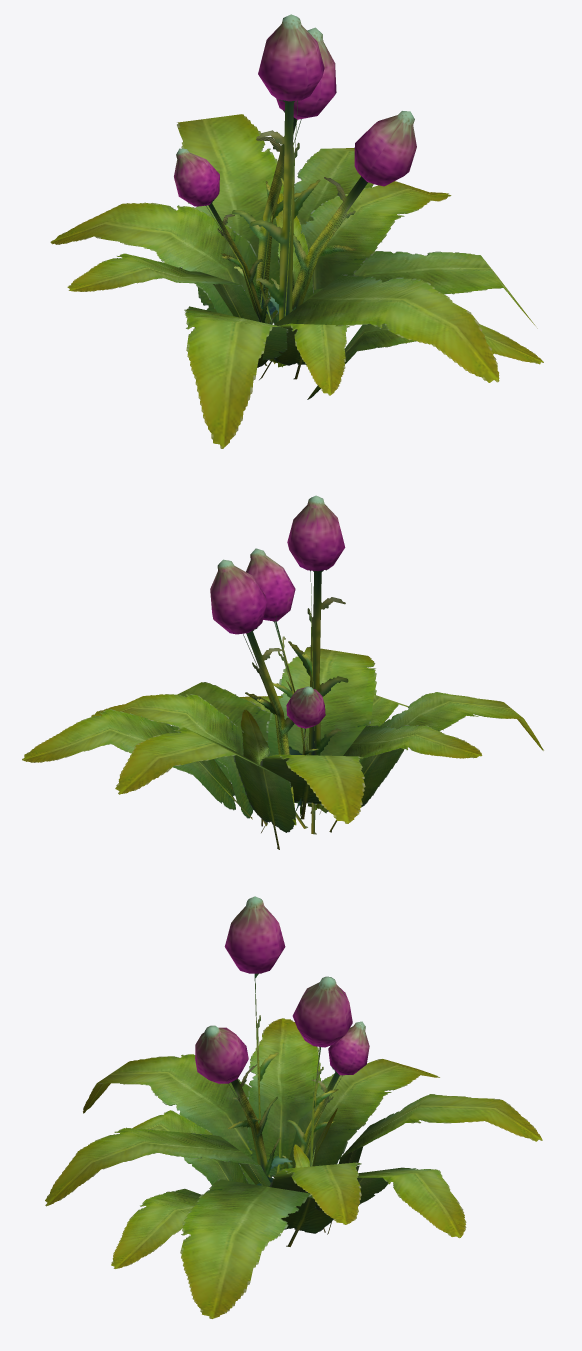
File: stsm_plant_cao_002.FBX
3 views of the same model, one above another, from view 1: azimuth 30°, elevation 25°; view 2: azimuth 150°, elevation 25°; view 3: azimuth 270°, elevation 25° (orthographic). The views are drawn at different scales.
Visible parts, largest first — view 1: stsm_plant_cao_002; view 2: stsm_plant_cao_002; view 3: stsm_plant_cao_002.
Part boxes in pixels (<box>): stsm_plant_cao_002: <box>50,14,543,448</box>; stsm_plant_cao_002: <box>22,495,543,849</box>; stsm_plant_cao_002: <box>45,896,542,1318</box>.
Bounding box in the file's own units: 1.6 × 1.31 × 1.83.
